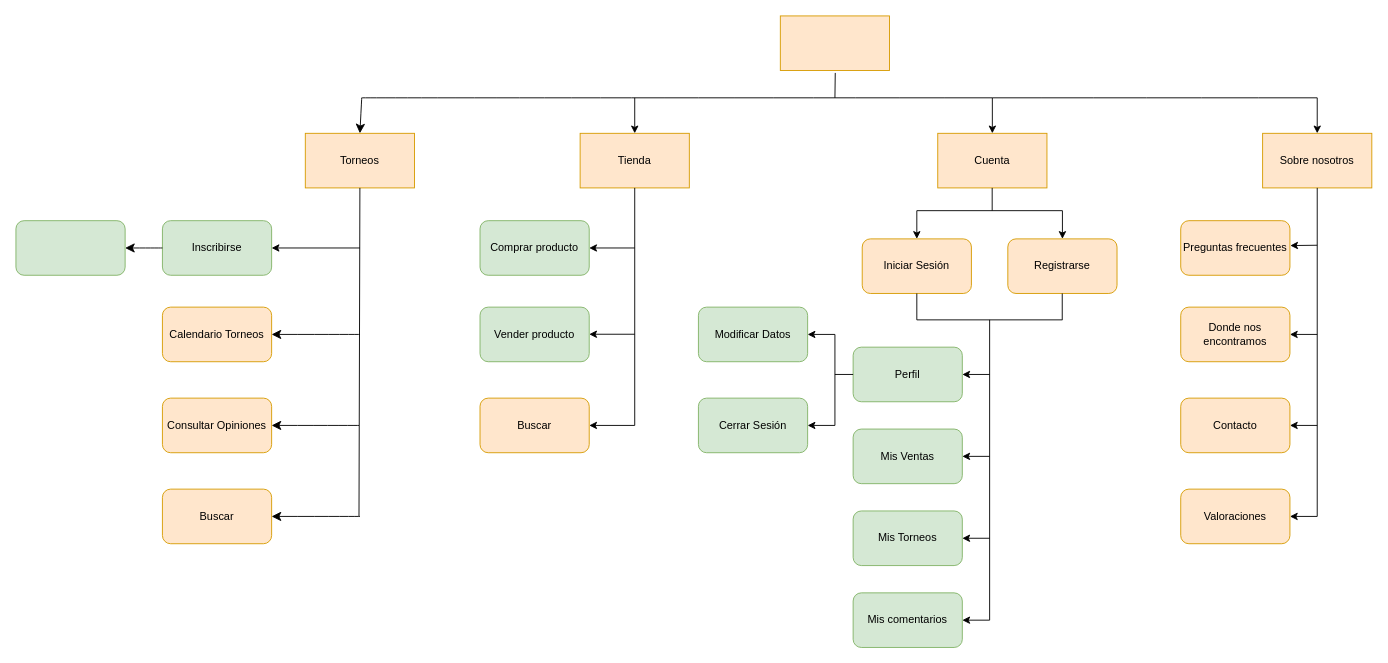
Some shapes in this 1388 by 663 pixel diagram are drawn without their labels. Each missing label, with the centre of its shape:
Inicio: point 834,43
Pagar inscripción: point 70,247
